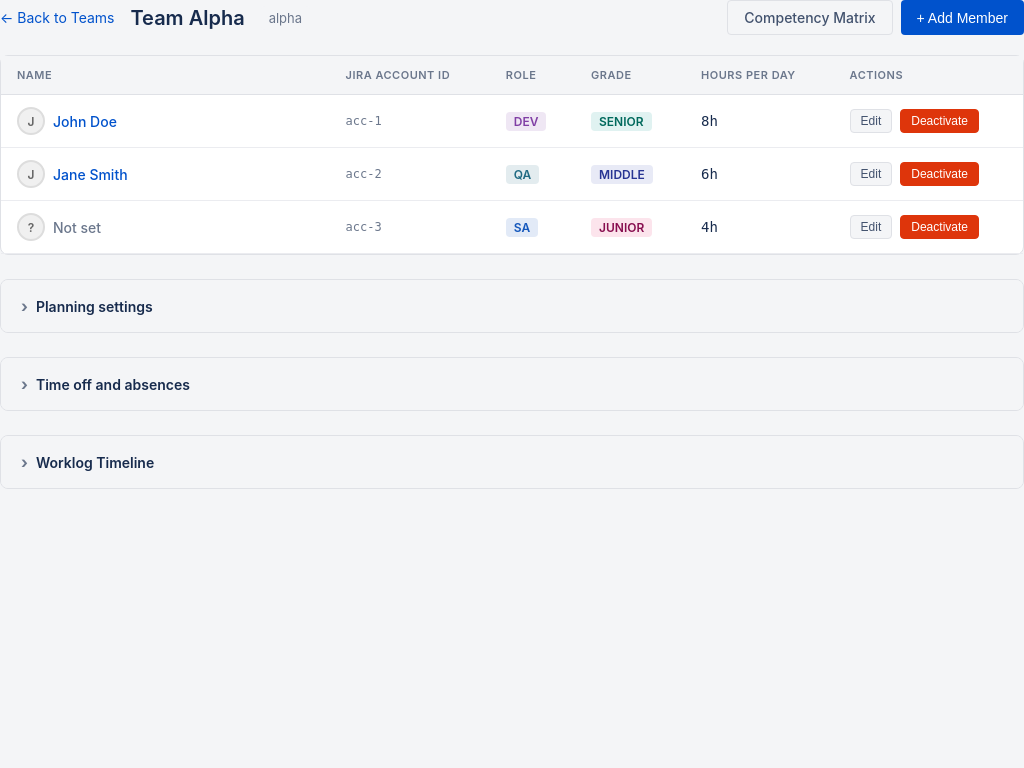
TeamMembersPage › Edit Member modal › should open edit modal with member data
Click the button "Edit" in the row of "John Doe" at (871, 121), box [850,109,892,133]
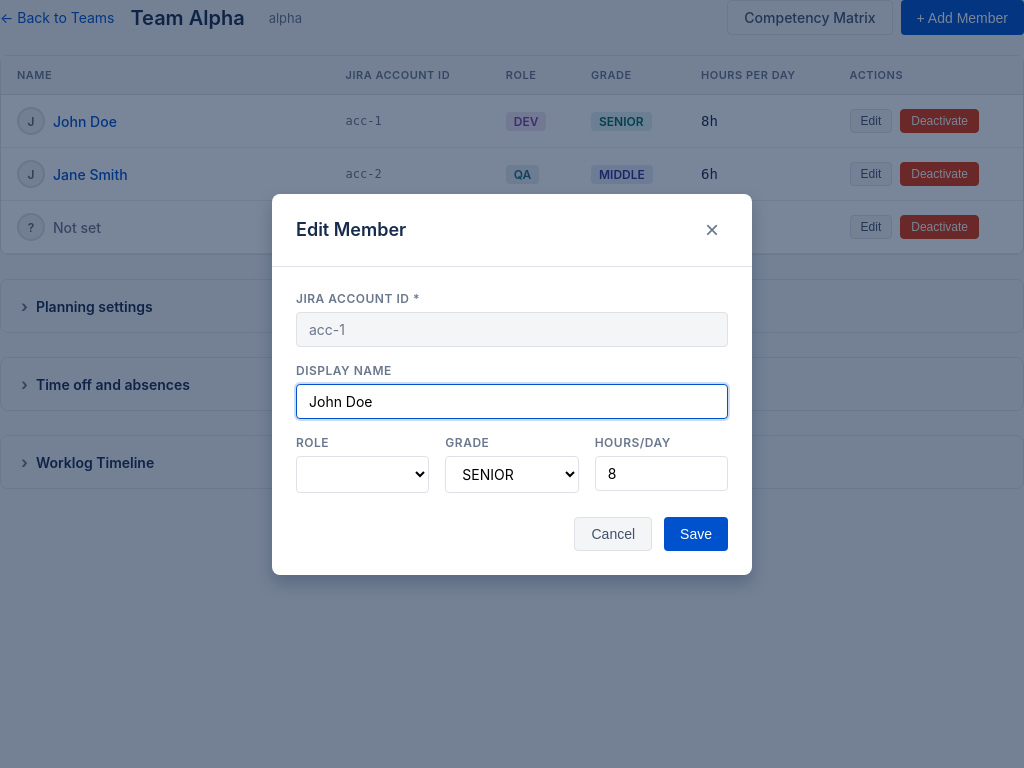
Result: the heading "Edit Member" is shown at [296,219,406,240]
Result: the field showing "John Doe" is shown at [296,384,728,418]
